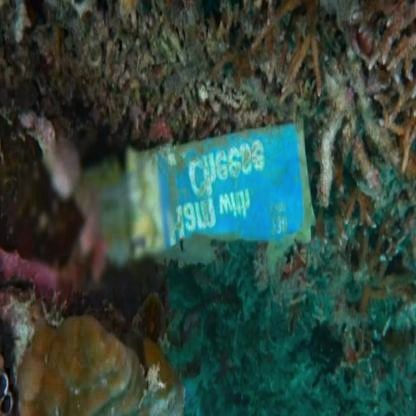plastic: (80, 115, 345, 267)
